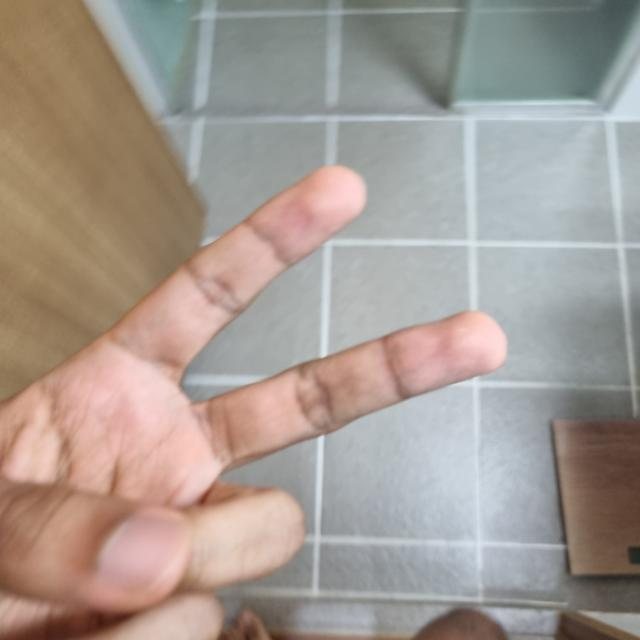Scissors: (0, 171, 521, 639)
